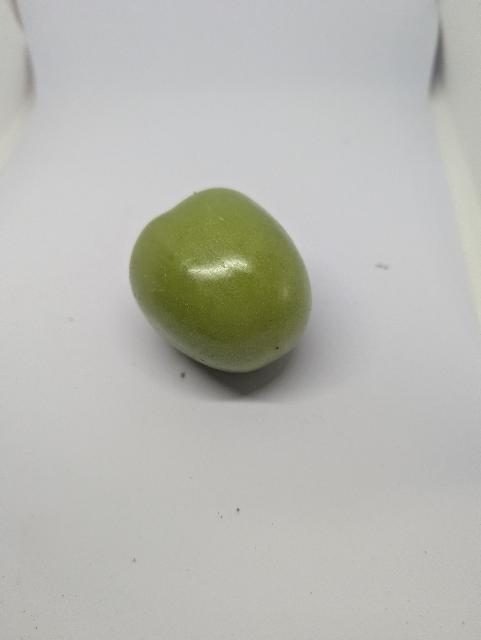green: (124, 181, 319, 391)
